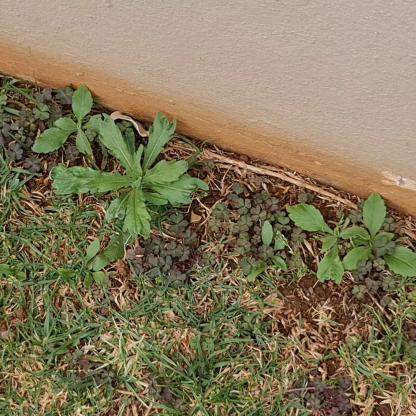Weeds: (49, 114, 210, 240), (285, 199, 369, 283), (344, 192, 415, 283), (33, 84, 115, 153)
